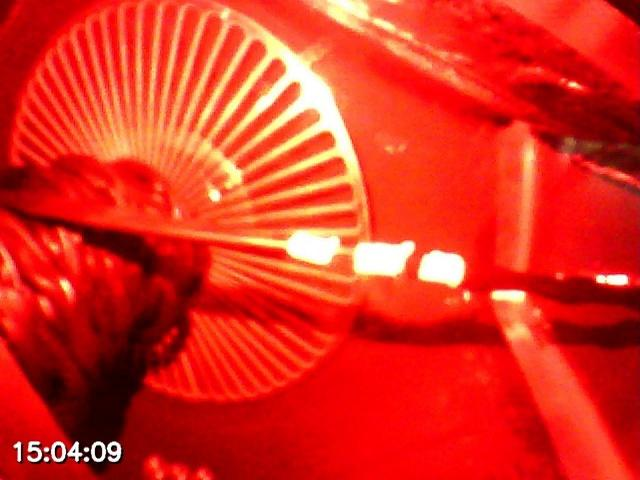white-dots: (285, 230, 467, 288)
